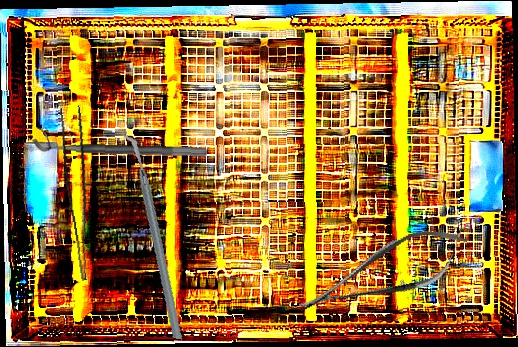Chopper: (85, 134, 219, 340)
Fixation Ring: (31, 126, 208, 159)
Micro Scissor: (288, 214, 478, 332)
Tissue Forceps: (54, 105, 107, 281)
